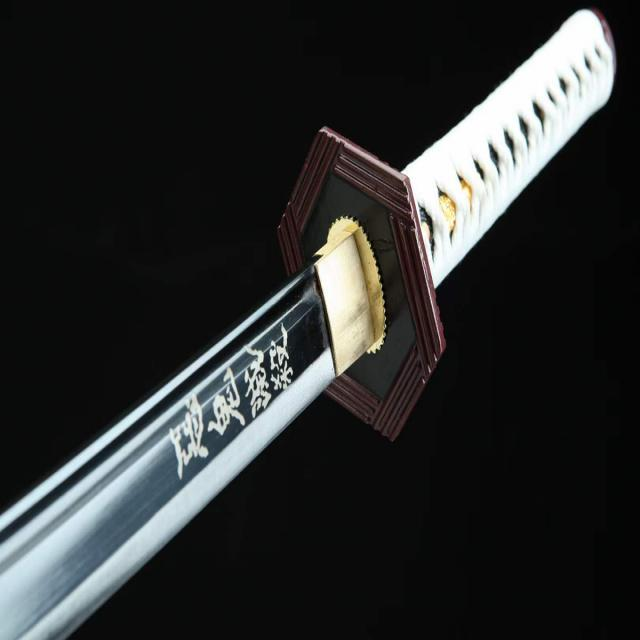katana: (1, 4, 619, 640)
